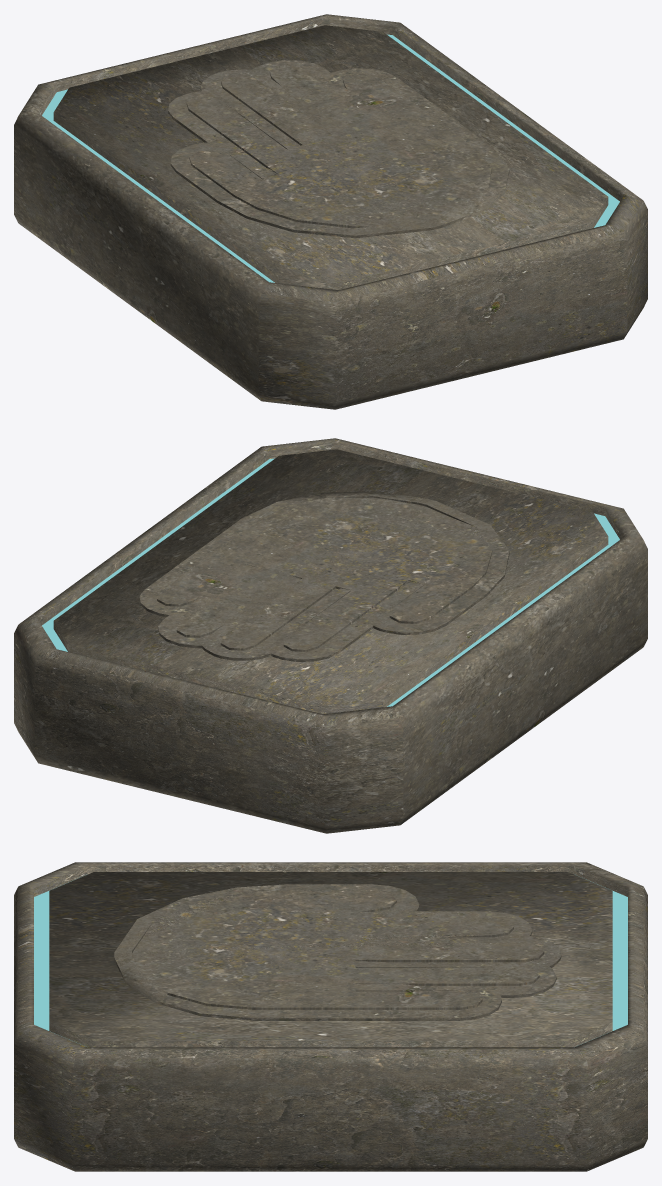
Rendered from DogButton.fbx.
3 renders of one model, top to bottom at view 1: azimuth 30°, elevation 25°; view 2: azimuth 150°, elevation 25°; view 3: azimuth 270°, elevation 25°, orthographic. The views are drawn at different scales.
Visible parts, largest first — view 1: 立方体, Curve, 立方体.001; view 2: 立方体, Curve, 立方体.001; view 3: 立方体, Curve, 立方体.001.
Part boxes in pixels (x1,y1,x2,y2): 立方体: [14, 14, 647, 409]; Curve: [168, 60, 509, 238]; 立方体.001: [42, 34, 619, 282]; 立方体: [14, 438, 647, 833]; Curve: [139, 491, 509, 661]; 立方体.001: [42, 458, 619, 706]; 立方体: [14, 862, 647, 1171]; Curve: [114, 884, 561, 1020]; 立方体.001: [34, 879, 627, 1044].
Bounding box in the file's own units: 227 × 66.95 × 305.
